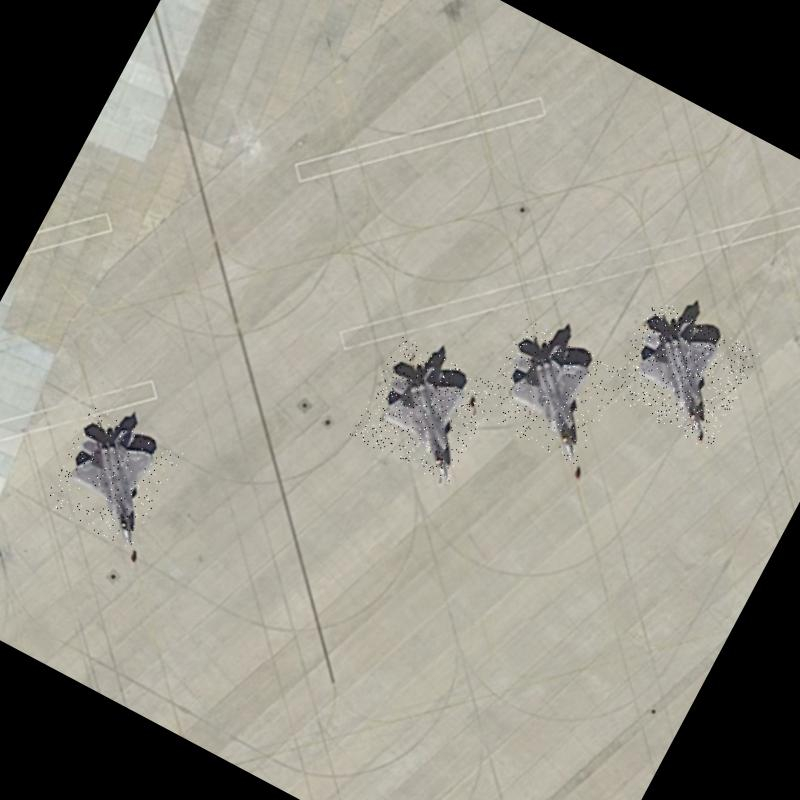A15: (602, 296, 760, 451), (474, 318, 626, 467), (349, 336, 499, 486), (40, 404, 183, 552)
